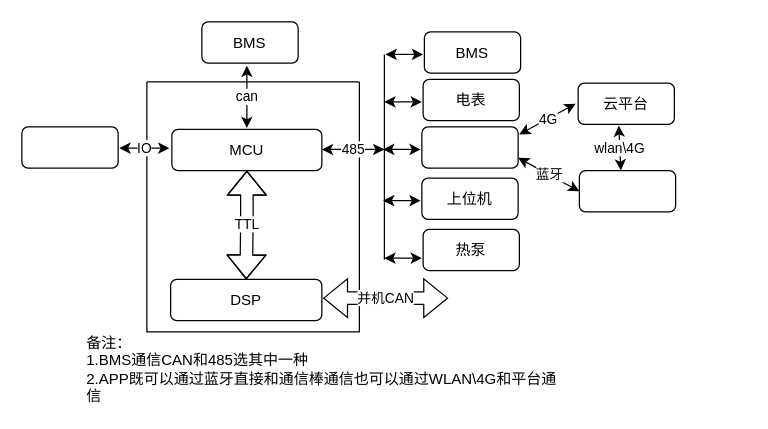
The diagram is 768 pixels wide and 429 high, and some of its shapes have lost their labels. The box of each missing label's shape, as (x1, y1, x2, y2) in pixels:
APP: (578, 169, 676, 212)
发电机: (21, 126, 118, 168)
逆变器: (146, 81, 359, 332)
通信棒: (421, 126, 518, 168)
